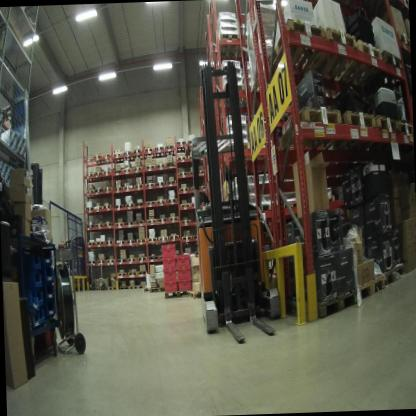forklift: (183, 51, 290, 355)
pallet: (268, 12, 328, 85), (272, 102, 343, 160), (319, 104, 381, 169), (308, 22, 362, 92), (284, 285, 360, 327), (334, 34, 386, 93), (365, 45, 406, 102), (370, 110, 399, 150), (358, 271, 387, 309), (378, 260, 409, 292), (214, 25, 241, 61), (397, 119, 413, 150), (367, 0, 407, 11), (395, 33, 411, 55), (164, 288, 191, 301), (153, 144, 165, 160), (187, 135, 198, 152), (103, 149, 114, 166), (117, 255, 137, 264), (144, 144, 156, 159), (124, 148, 134, 165), (92, 152, 104, 166), (122, 166, 133, 181), (103, 202, 115, 215), (134, 198, 146, 211), (145, 197, 157, 210), (176, 139, 187, 153), (164, 144, 175, 158), (113, 149, 124, 163), (85, 170, 96, 184), (114, 202, 126, 214), (177, 184, 190, 195), (132, 164, 143, 177), (95, 169, 106, 182), (145, 163, 158, 174), (167, 215, 181, 225), (134, 146, 144, 160), (149, 285, 166, 293), (126, 236, 137, 248), (166, 178, 178, 189), (114, 236, 127, 246), (146, 236, 159, 246), (190, 167, 199, 181), (136, 237, 147, 248), (158, 235, 169, 246), (103, 169, 114, 180), (137, 269, 149, 279), (156, 198, 166, 210), (166, 197, 178, 207), (146, 215, 158, 225), (155, 180, 167, 190), (167, 160, 177, 172), (135, 217, 145, 228), (124, 218, 135, 228), (104, 219, 115, 229), (86, 221, 96, 232), (176, 153, 186, 164), (116, 269, 128, 278), (180, 217, 192, 226), (145, 181, 157, 190), (177, 170, 189, 179), (114, 167, 123, 179), (95, 203, 103, 216), (85, 206, 95, 216), (198, 167, 208, 177), (108, 283, 119, 292), (106, 256, 117, 265), (95, 220, 104, 231), (187, 155, 198, 164), (156, 162, 167, 171), (158, 217, 170, 225), (112, 184, 124, 192), (123, 184, 135, 192), (142, 284, 151, 294), (138, 281, 147, 291), (115, 219, 125, 228), (180, 201, 190, 210), (94, 187, 104, 196), (103, 184, 113, 193), (137, 255, 148, 263), (182, 235, 193, 243), (128, 269, 138, 277), (104, 238, 114, 246), (126, 202, 134, 212), (191, 185, 201, 193), (169, 235, 180, 242), (130, 284, 139, 292), (134, 182, 144, 189), (118, 285, 129, 291), (149, 254, 160, 260), (98, 257, 106, 265), (89, 258, 97, 266), (88, 188, 96, 196), (96, 239, 105, 246), (87, 240, 96, 246), (191, 202, 198, 209), (193, 234, 198, 243), (201, 186, 207, 193), (160, 255, 166, 259)
pallet_truck: (97, 257, 110, 294), (87, 255, 99, 292)
small_load_carrier: (175, 249, 194, 265), (161, 240, 177, 256), (175, 265, 193, 278), (178, 278, 193, 293), (162, 255, 177, 268), (163, 265, 176, 280), (164, 280, 179, 293)
